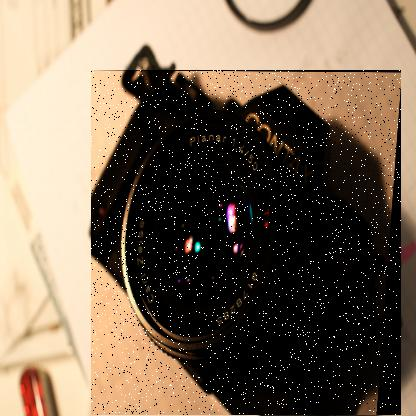Camera: (92, 71, 403, 416)
